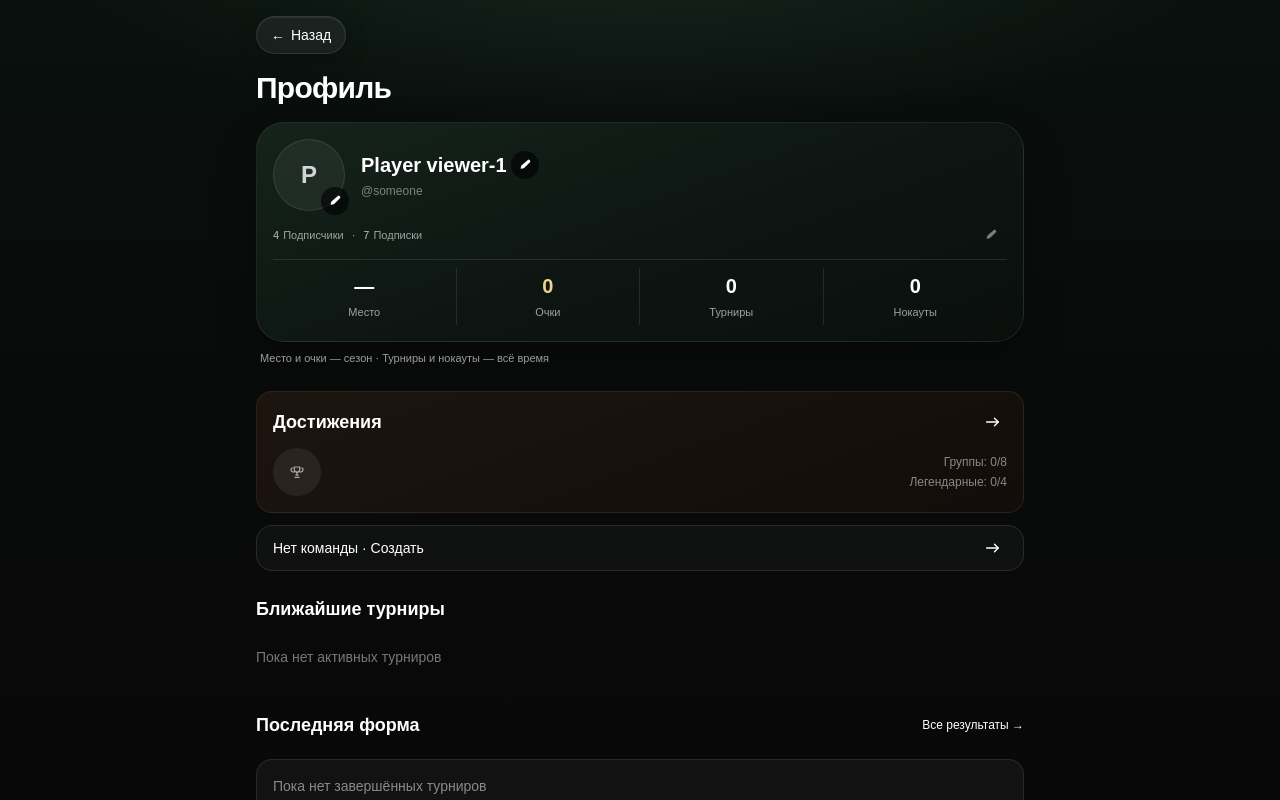
Test: followers / following lists › the owner can open both lists on their own profile
Click the button with test id "follow-followers" at (308, 235), box [273,227,344,243]
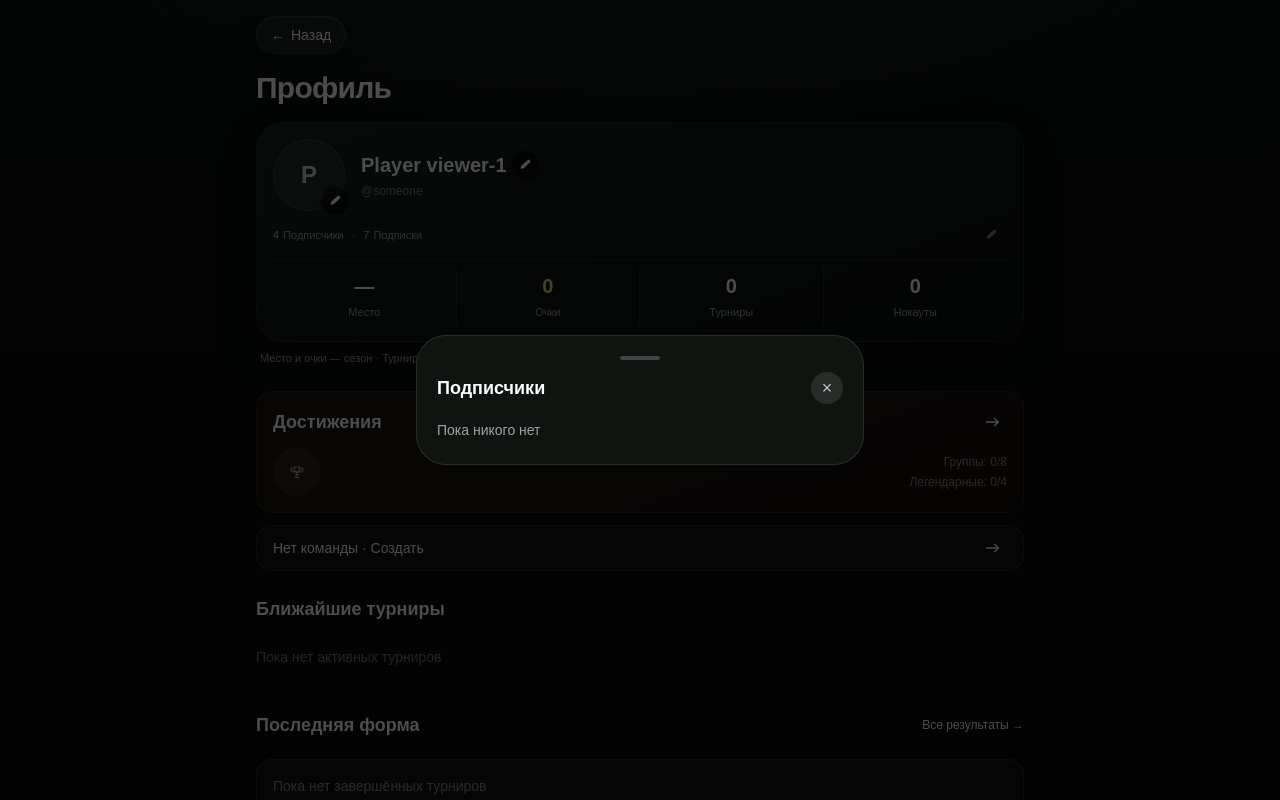
Expected: the heading "Подписчики" is shown, [437,374,545,402]
